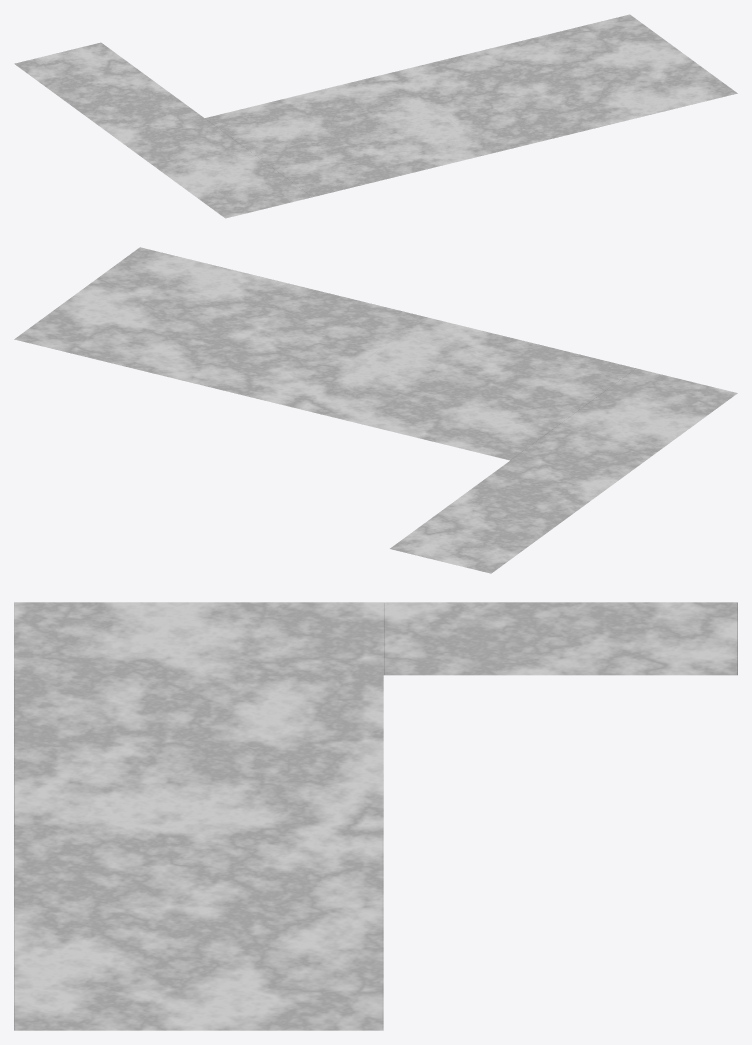
Rendered from marble_floor.fbx.
3 views of the same model, one above another, from view 1: azimuth 30°, elevation 25°; view 2: azimuth 150°, elevation 25°; view 3: azimuth 270°, elevation 25° (orthographic). The views are drawn at different scales.
Visible parts, largest first — view 1: polySurface138; view 2: polySurface138; view 3: polySurface138.
Boxes of the visible parts, bbox=[...] form: polySurface138: bbox=[14, 14, 737, 218]; polySurface138: bbox=[14, 247, 737, 573]; polySurface138: bbox=[14, 602, 737, 1030].
Bounding box in the file's own units: 10.32 × 0 × 7.37.
1 material, 1 textured.
